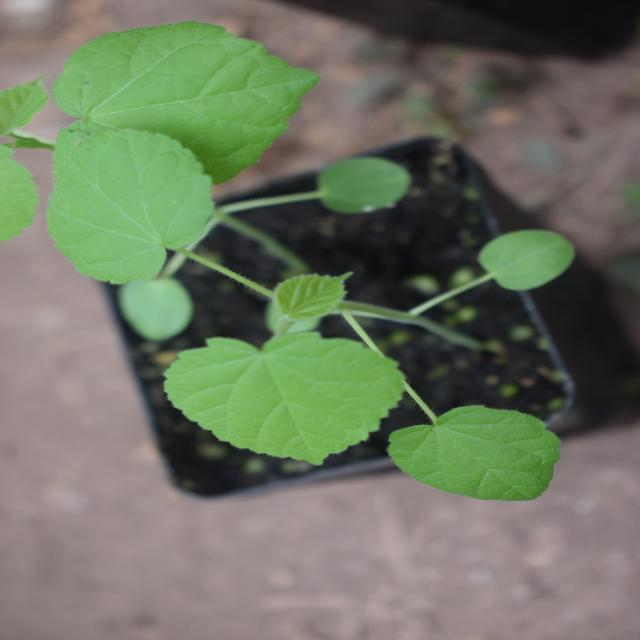abutilon theophrasti: (123, 61, 512, 535)
